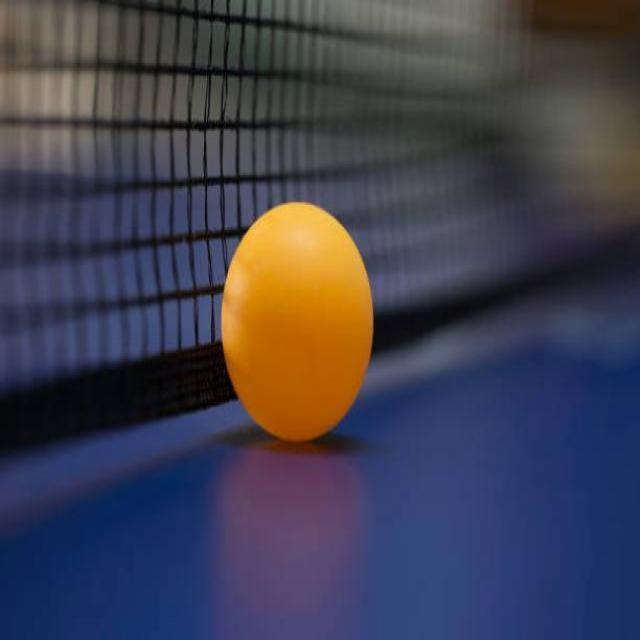oball: (222, 202, 374, 442)
